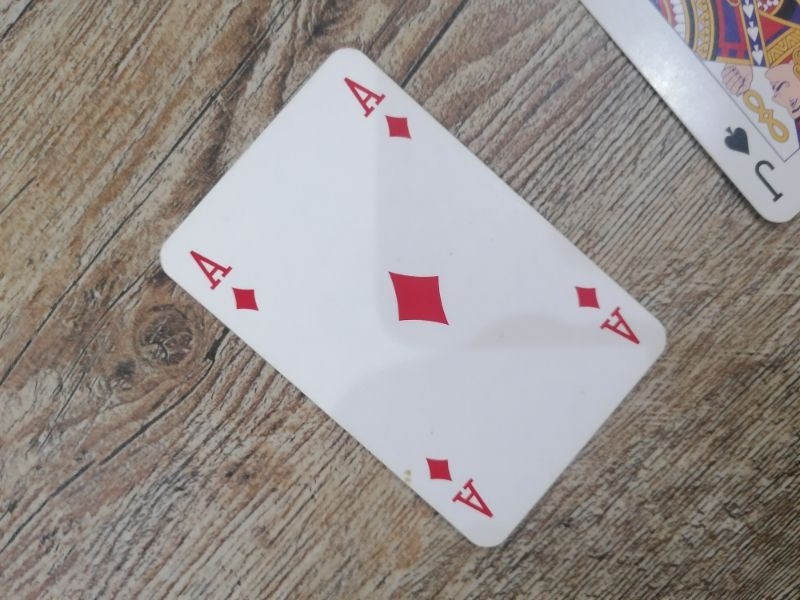Ad: (423, 451, 498, 522), (187, 246, 263, 315), (341, 74, 416, 143), (571, 282, 644, 348)
Js: (714, 116, 791, 211)
